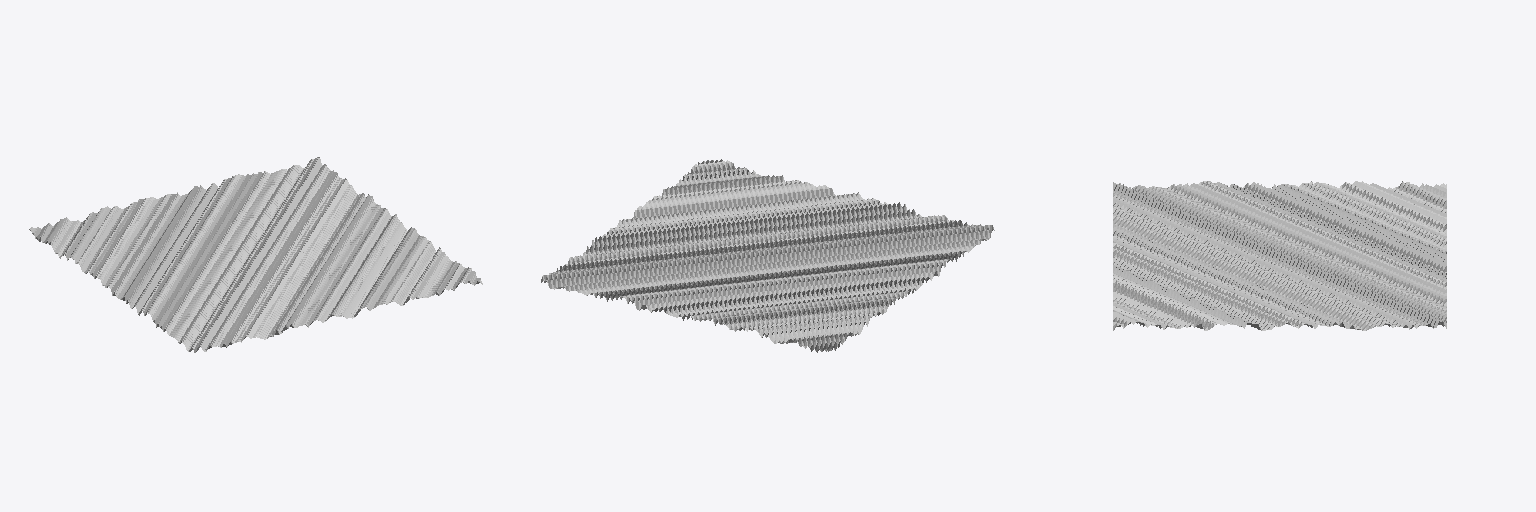
The model's file is terrain.obj.
3 views of the same model, side by side, from view 1: azimuth 30°, elevation 25°; view 2: azimuth 150°, elevation 25°; view 3: azimuth 270°, elevation 25° (orthographic).
Size of the model in its own units: 99 by 3.21 by 99.